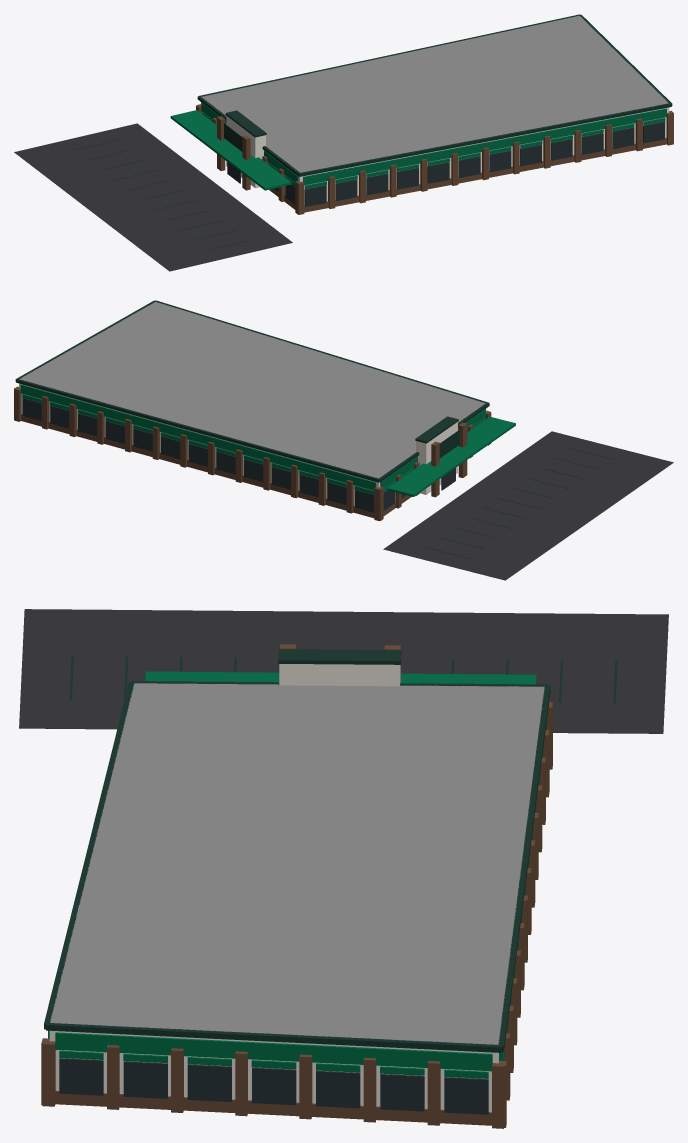
The model's file is starbucks2.glb.
3 renders of one model, top to bottom at view 1: azimuth 30°, elevation 25°; view 2: azimuth 150°, elevation 25°; view 3: azimuth 270°, elevation 25°, orthographic. The views are drawn at different scales.
Parts seen in each view (by area): view 1: starbucks2_lod0; view 2: starbucks2_lod0; view 3: starbucks2_lod0.
Boxes of the visible parts, x1,y1,x2,y2 form: starbucks2_lod0: (14,14,673,271); starbucks2_lod0: (14,300,673,580); starbucks2_lod0: (19,609,668,1128).
Size of what is drawn, in the model's own units: 61.02 by 5.8 by 32.27.
